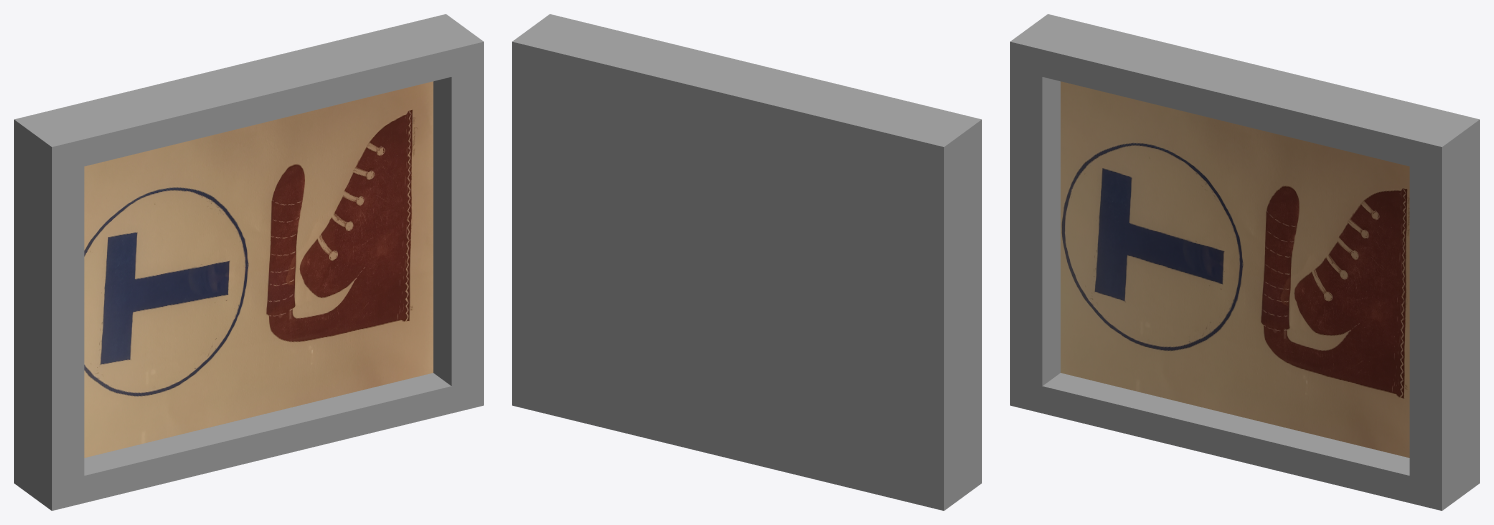
The model's file is tavla1.fbx.
3 renders of one model, left to right at view 1: azimuth 30°, elevation 25°; view 2: azimuth 150°, elevation 25°; view 3: azimuth 330°, elevation 25°, orthographic.
Visible parts, largest first — view 1: pCube1; view 2: pCube1; view 3: pCube1.
Part boxes in pixels (<box>): pCube1: <box>14,14,483,510</box>; pCube1: <box>512,14,981,510</box>; pCube1: <box>1010,14,1479,510</box>.
Bounding box in the file's own units: 14.89 × 11.98 × 2.26.
Materials: 2 (1 with a texture image).
